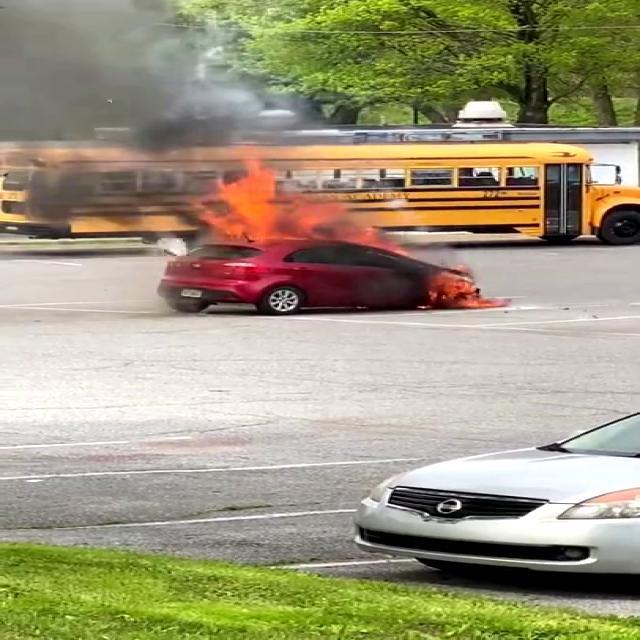Fire: (200, 159, 338, 248), (432, 270, 488, 310)
Smoke: (0, 0, 277, 187)
